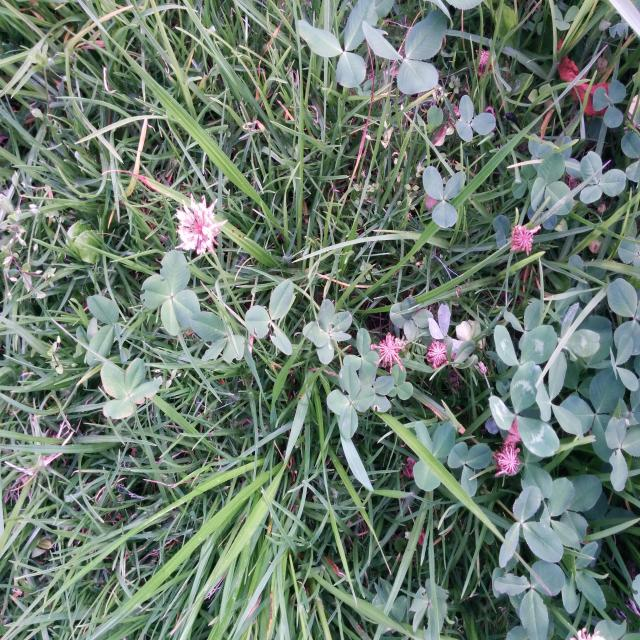Four Leaf Clover: (140, 253, 200, 335), (100, 358, 161, 419), (303, 298, 352, 364), (327, 368, 373, 438)
